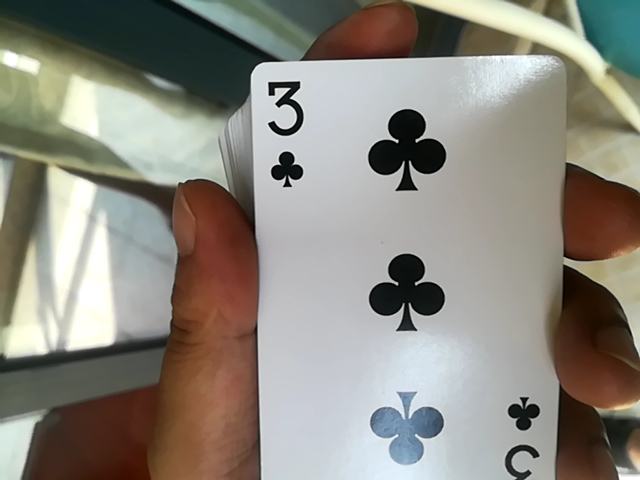mh 3: (238, 59, 602, 478)
